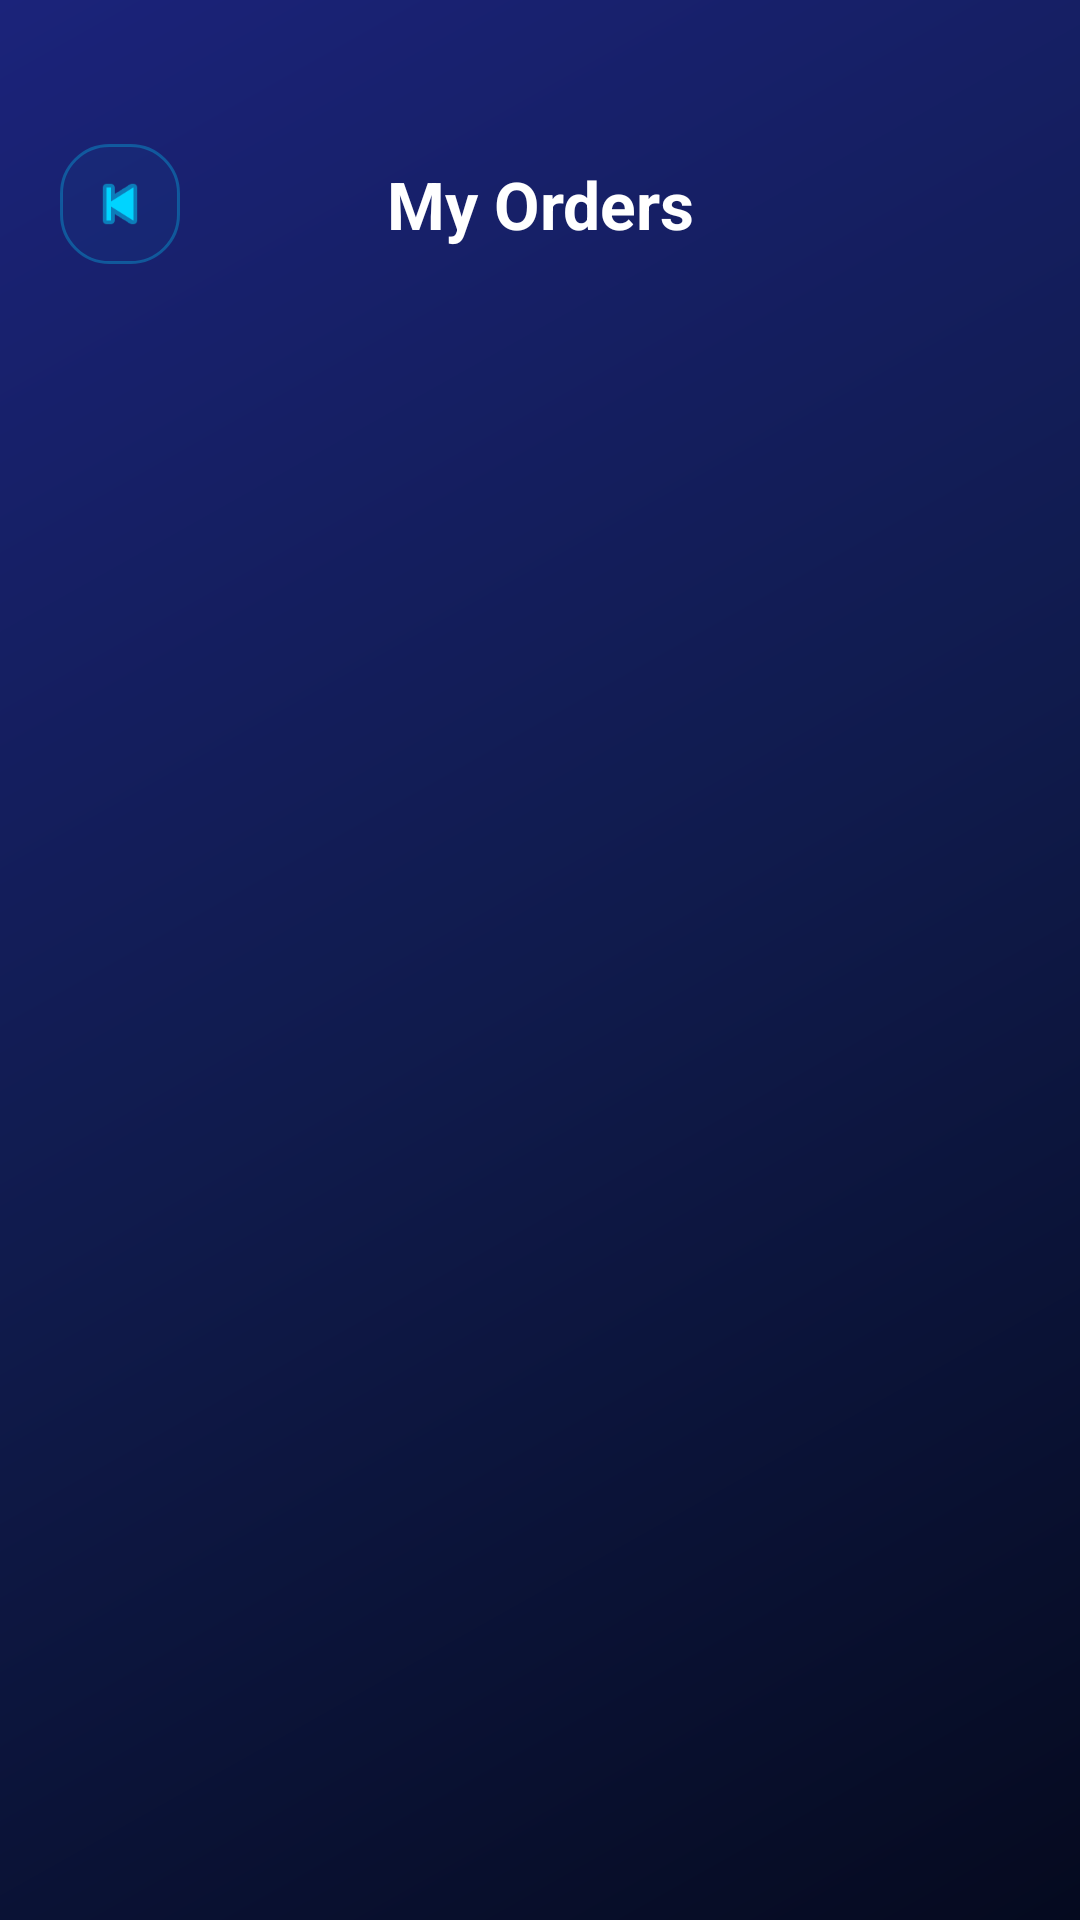

Icon bounding boxes for this 1080×1920 phone screenshot, format (x1, y1, x2, y2):
previous: (60, 144, 180, 264)
